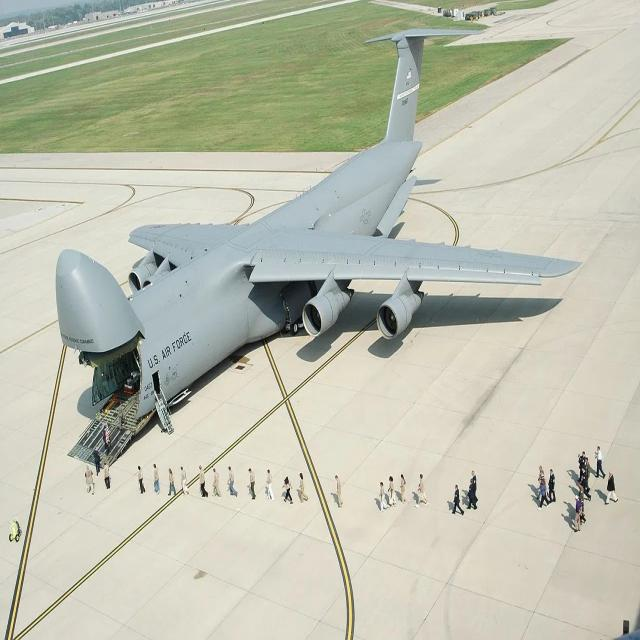MIL_Plane: (275, 1, 354, 397)
